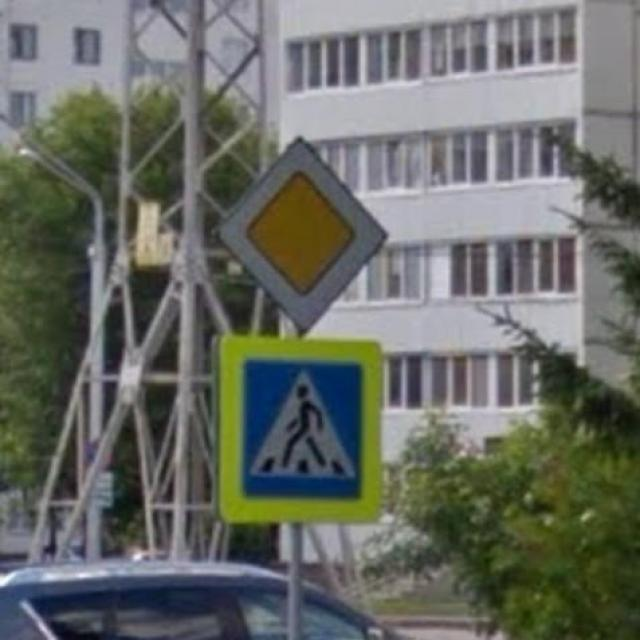Droga z pierwszenstwem: (213, 131, 394, 338)
Przejscie dla pieszych: (205, 334, 385, 526)
